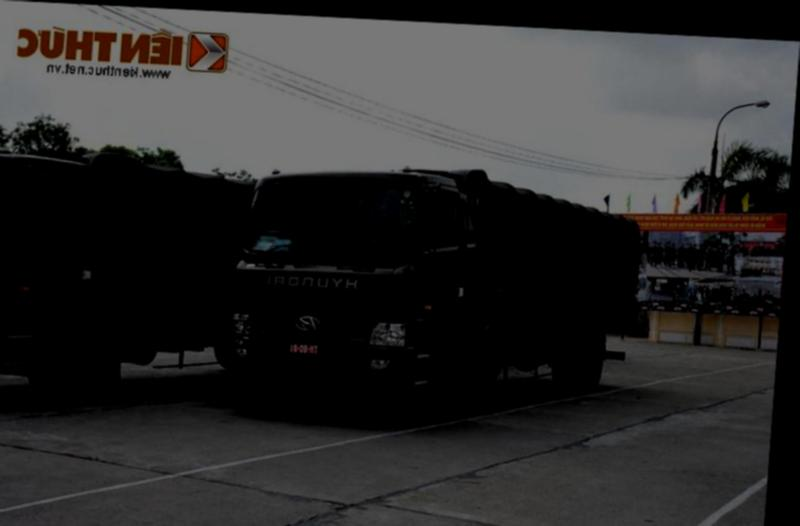License_Plate: (284, 338, 321, 361)
